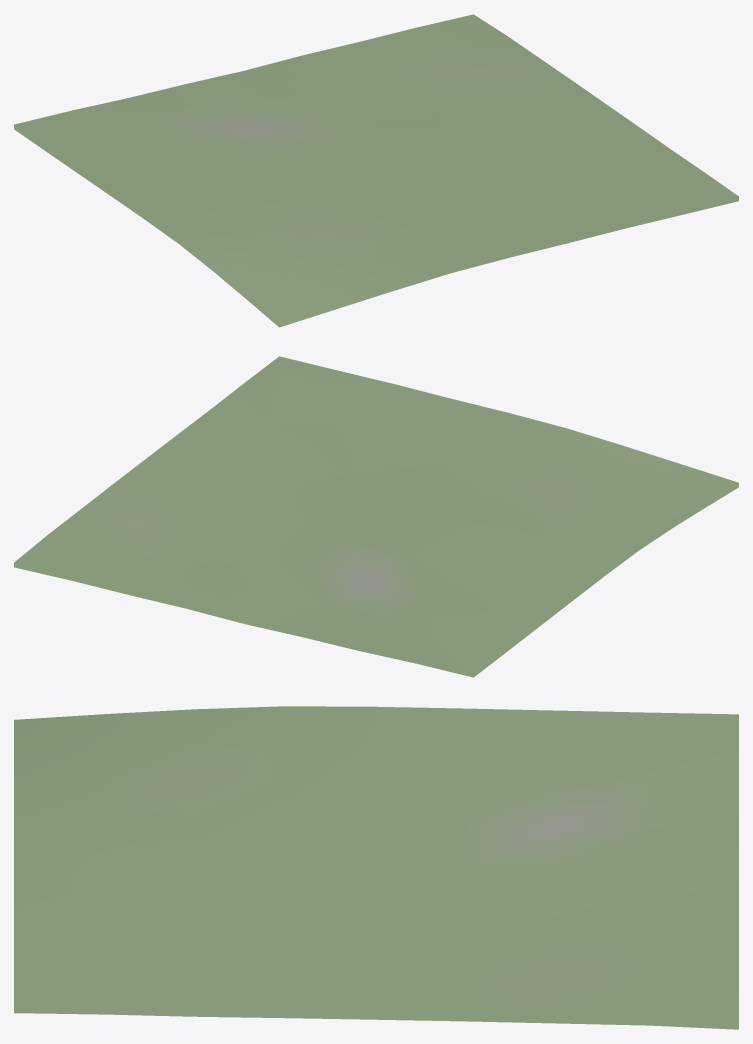
3 renders of one model, top to bottom at view 1: azimuth 30°, elevation 25°; view 2: azimuth 150°, elevation 25°; view 3: azimuth 270°, elevation 25°, orthographic. The views are drawn at different scales.
Visible parts, largest first — view 1: prim0; view 2: prim0; view 3: prim0.
Boxes of the visible parts, box(x1,y1,x2,y2) form: prim0: box(14, 14, 738, 327); prim0: box(14, 356, 738, 677); prim0: box(14, 706, 738, 1029).
Size of the model in its own units: 512 by 20.51 by 512.
